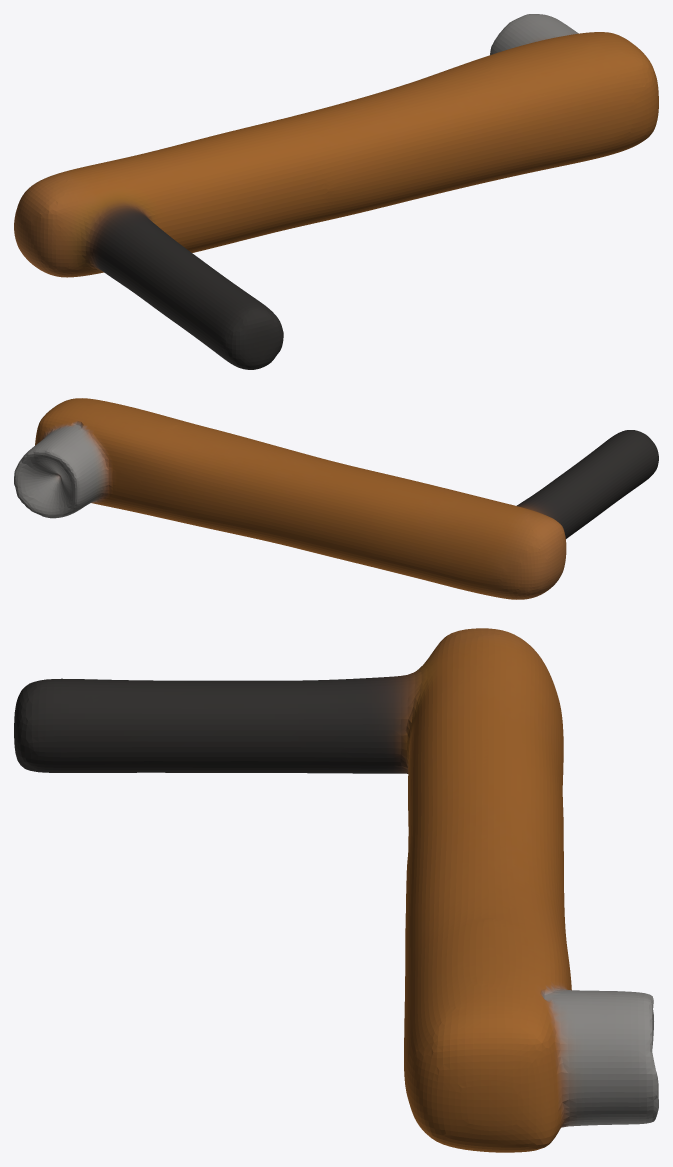
File: crank.fbx
3 views of the same model, one above another, from view 1: azimuth 30°, elevation 25°; view 2: azimuth 150°, elevation 25°; view 3: azimuth 270°, elevation 25° (orthographic). The views are drawn at different scales.
Visible parts, largest first — view 1: Cylinder; view 2: Cylinder; view 3: Cylinder.
Part boxes in pixels (x1,y1,x2,y2): Cylinder: (14, 14, 658, 369); Cylinder: (14, 398, 658, 599); Cylinder: (14, 628, 658, 1152).
Bounding box in the file's own units: 3465 × 569 × 2215.
